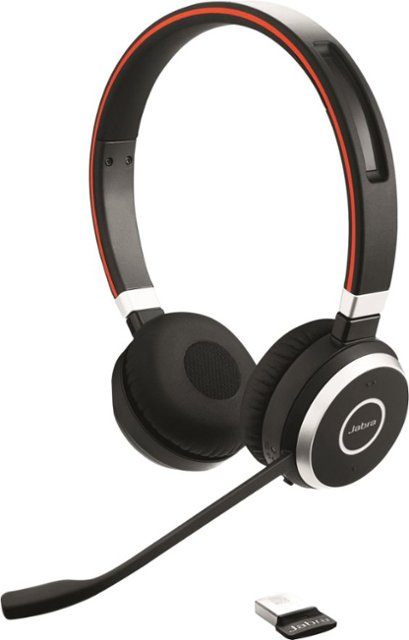Headphone: (86, 1, 409, 510)
